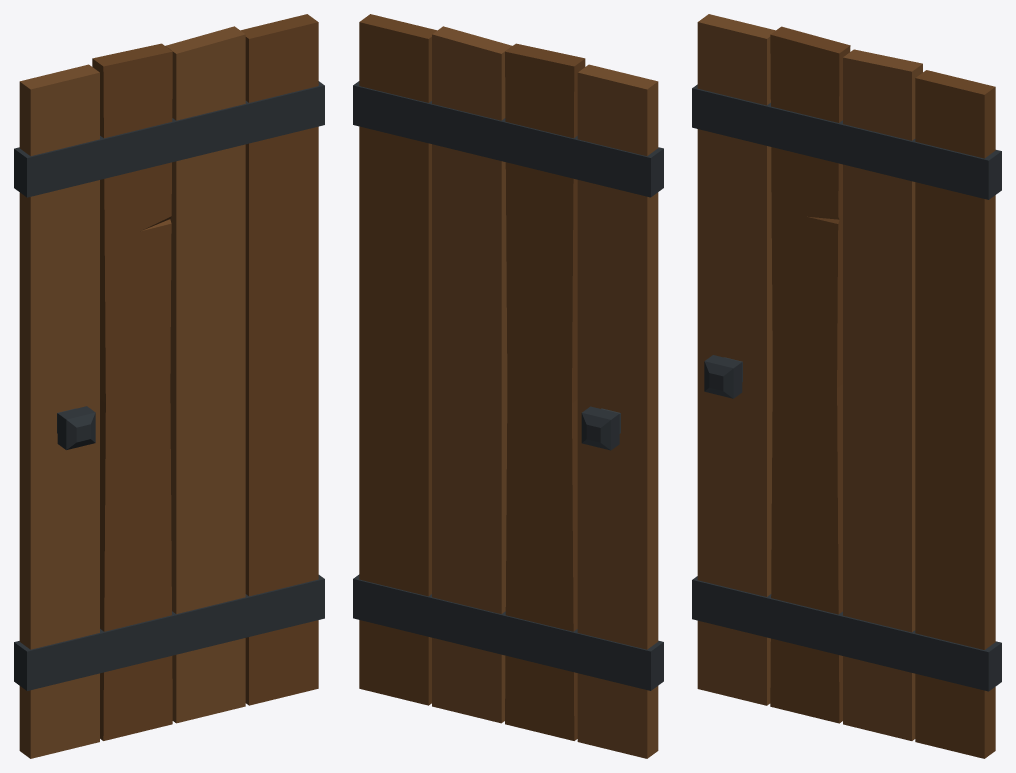
File: Door_01.fbx
3 renders of one model, left to right at view 1: azimuth 30°, elevation 25°; view 2: azimuth 150°, elevation 25°; view 3: azimuth 330°, elevation 25°, orthographic.
Visible parts, largest first — view 1: Door_01; view 2: Door_01; view 3: Door_01.
Part boxes in pixels (bbox=[...]): Door_01: bbox=[14, 14, 324, 758]; Door_01: bbox=[353, 14, 663, 758]; Door_01: bbox=[692, 14, 1001, 758].
Size of the model in its own units: 91.45 by 198 by 24.52.
